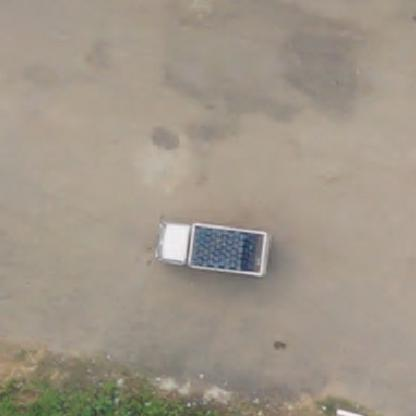truck: (156, 220, 276, 283)
